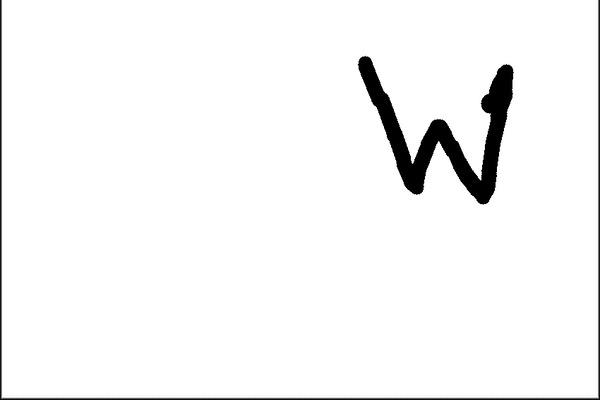w: (328, 33, 521, 229)
